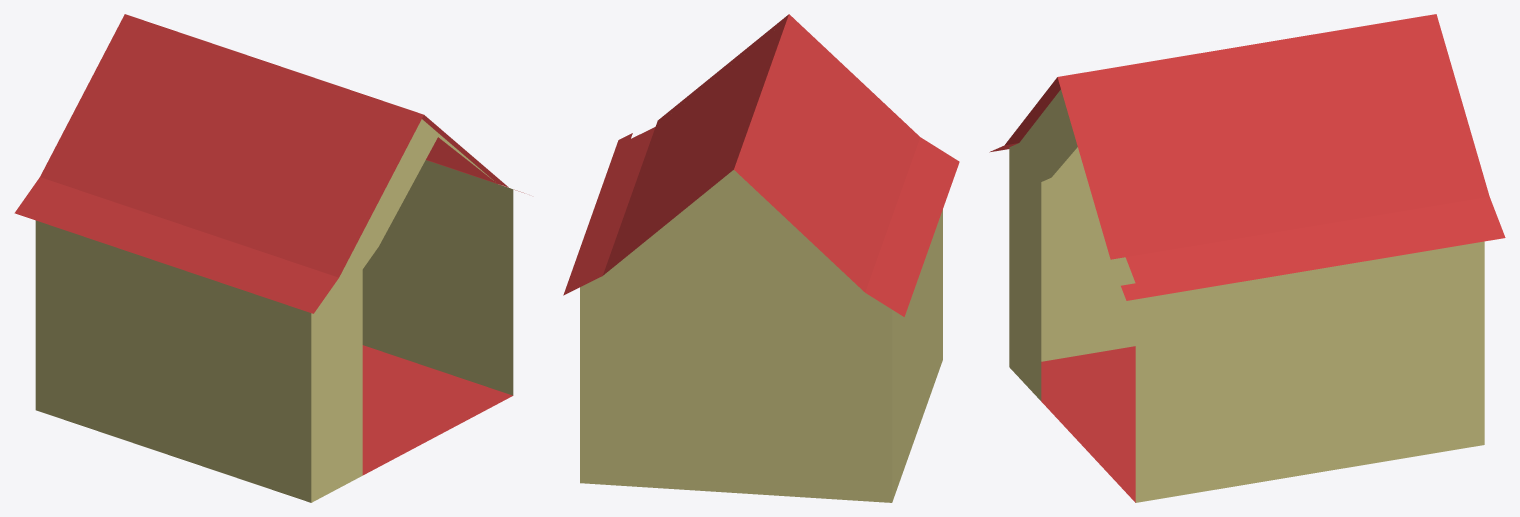
3 renders of one model, left to right at view 1: azimuth 30°, elevation 25°; view 2: azimuth 150°, elevation 25°; view 3: azimuth 270°, elevation 25°, orthographic. The views are drawn at different scales.
Bounding box in the file's own units: 23.36 × 24.15 × 18.57.
